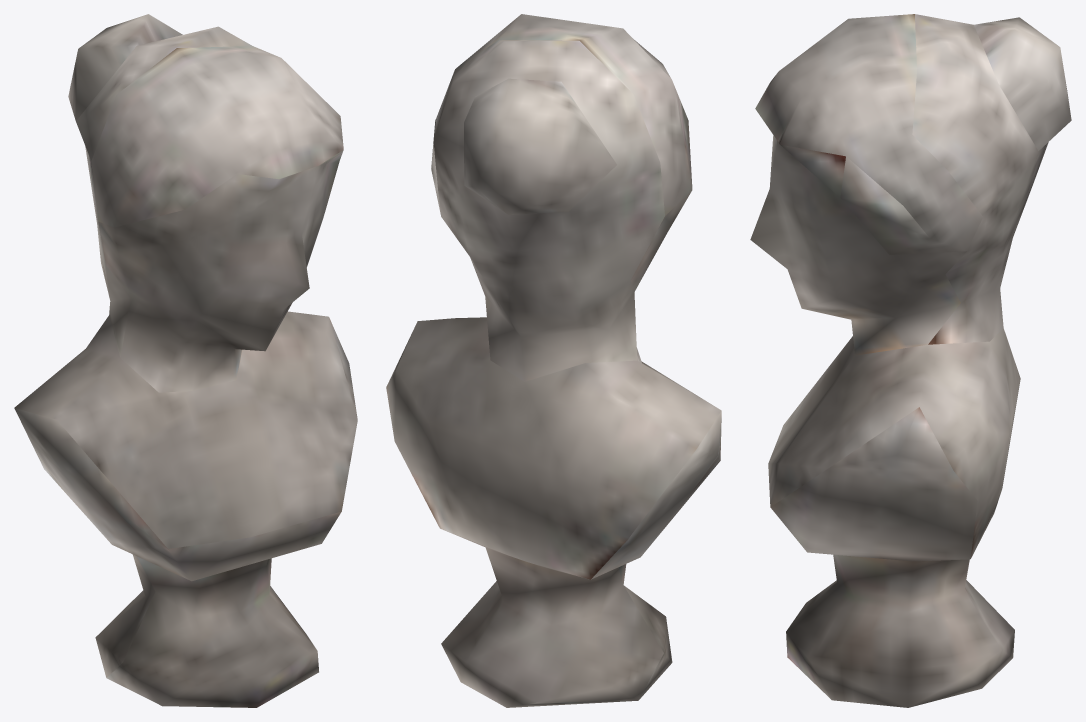
File: Q_StatueBust_white.fbx
3 renders of one model, left to right at view 1: azimuth 30°, elevation 25°; view 2: azimuth 150°, elevation 25°; view 3: azimuth 270°, elevation 25°, orthographic. The views are drawn at different scales.
Visible parts, largest first — view 1: Aset_antique_sculpture_S_ug4kaisva_05_LOD5; view 2: Aset_antique_sculpture_S_ug4kaisva_05_LOD5; view 3: Aset_antique_sculpture_S_ug4kaisva_05_LOD5.
Part boxes in pixels (bbox=[...]): Aset_antique_sculpture_S_ug4kaisva_05_LOD5: bbox=[14, 14, 357, 707]; Aset_antique_sculpture_S_ug4kaisva_05_LOD5: bbox=[386, 14, 721, 707]; Aset_antique_sculpture_S_ug4kaisva_05_LOD5: bbox=[750, 14, 1071, 707].
Size of the model in its own units: 9.69 by 18.71 by 8.58.
